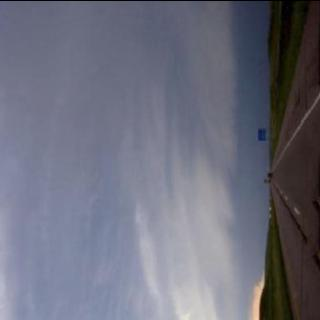Cumulonimbus: (0, 0, 258, 320)
